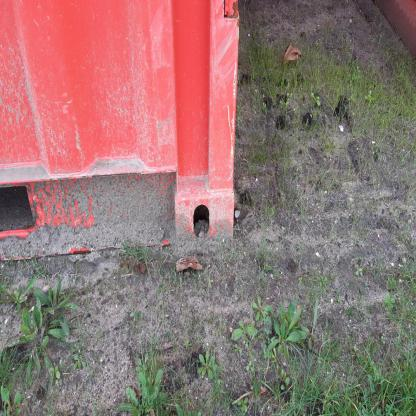CornerCasting: (174, 184, 238, 256)
